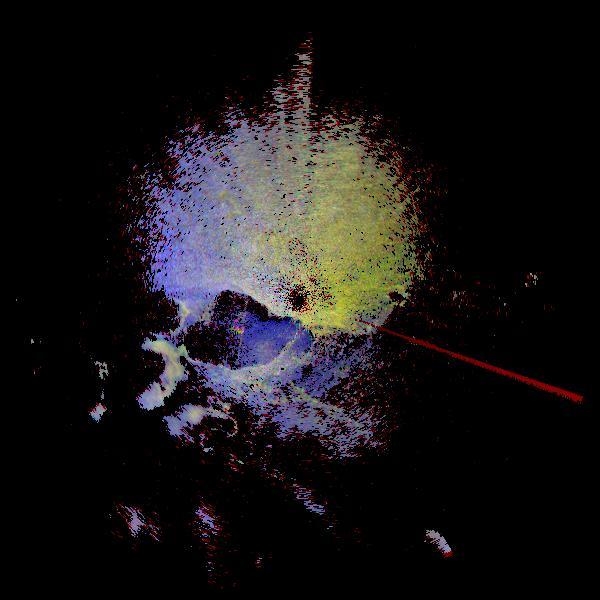roost: (108, 327, 204, 423)
